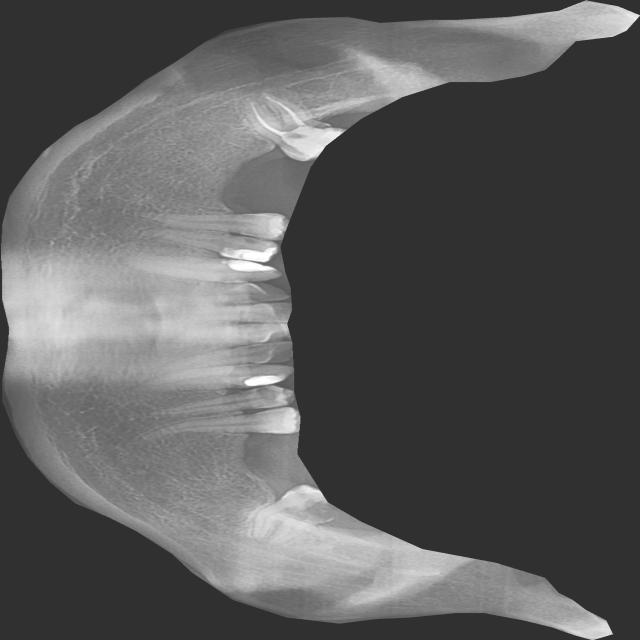mandibula: (0, 0, 639, 640)
